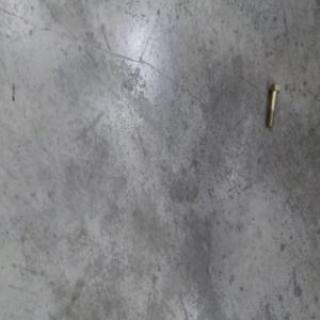Bolttrack_idkeyframe: (264, 79, 278, 126)
